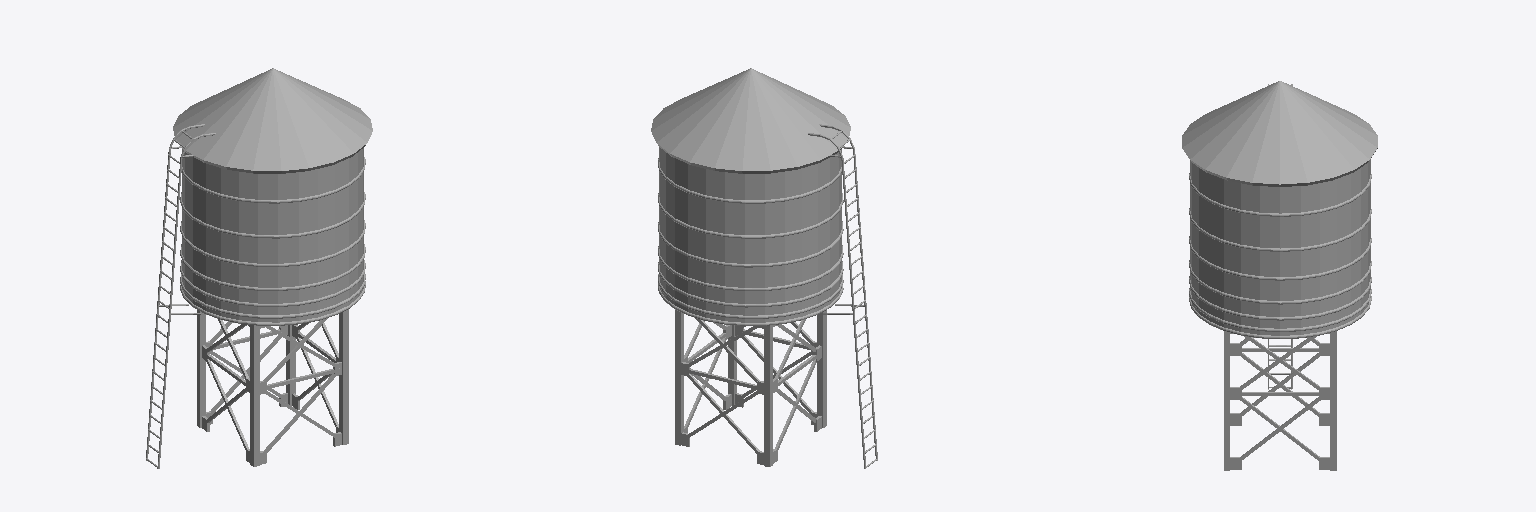
Rendered from WaterTower.obj.
3 renders of one model, left to right at view 1: azimuth 30°, elevation 25°; view 2: azimuth 150°, elevation 25°; view 3: azimuth 270°, elevation 25°, orthographic.
Visible parts, largest first — view 1: WaterTower; view 2: WaterTower; view 3: WaterTower.
Part boxes in pixels (bbox=[...]): WaterTower: bbox=[146, 68, 372, 468]; WaterTower: bbox=[651, 68, 877, 468]; WaterTower: bbox=[1182, 81, 1377, 470].
Bounding box in the file's own units: 3.17 × 5.33 × 2.57.